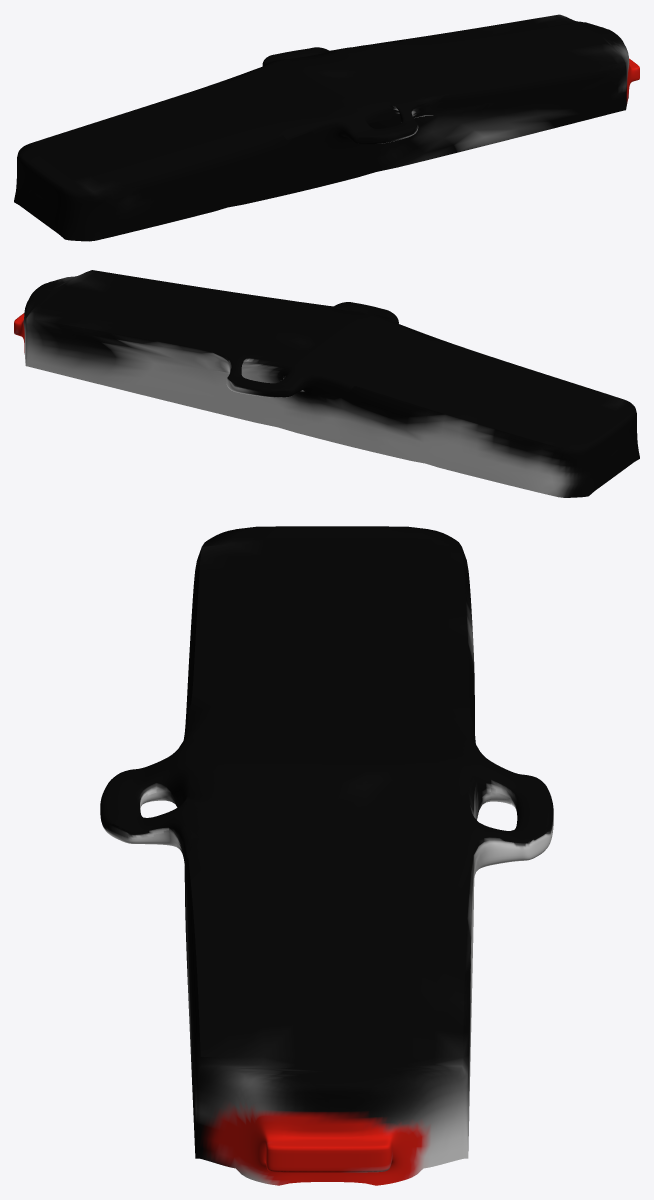
File: drone_dessus.fbx
3 renders of one model, top to bottom at view 1: azimuth 30°, elevation 25°; view 2: azimuth 150°, elevation 25°; view 3: azimuth 270°, elevation 25°, orthographic. The views are drawn at different scales.
Visible parts, largest first — view 1: base.hp.dessus; view 2: base.hp.dessus; view 3: base.hp.dessus.
Boxes of the visible parts, x1,y1,x2,y2 form: base.hp.dessus: [14, 14, 639, 241]; base.hp.dessus: [14, 270, 639, 497]; base.hp.dessus: [100, 526, 553, 1185].
Bounding box in the file's own units: 70.53 × 7.96 × 23.63.
